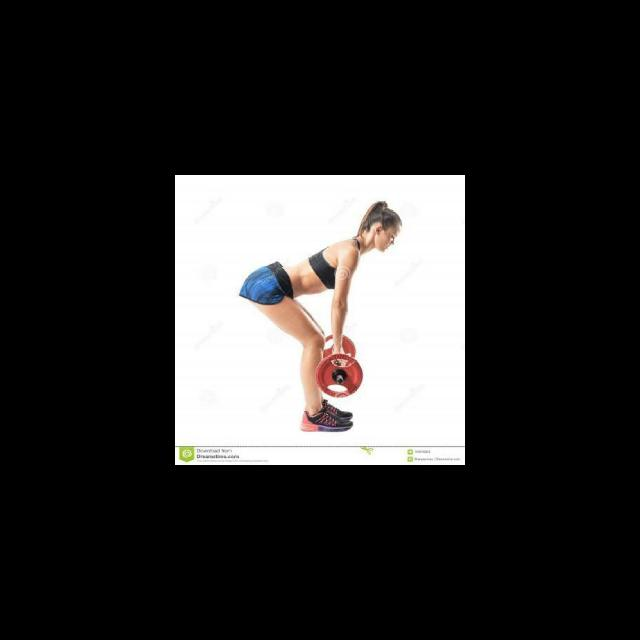barbell: (314, 352, 363, 399)
